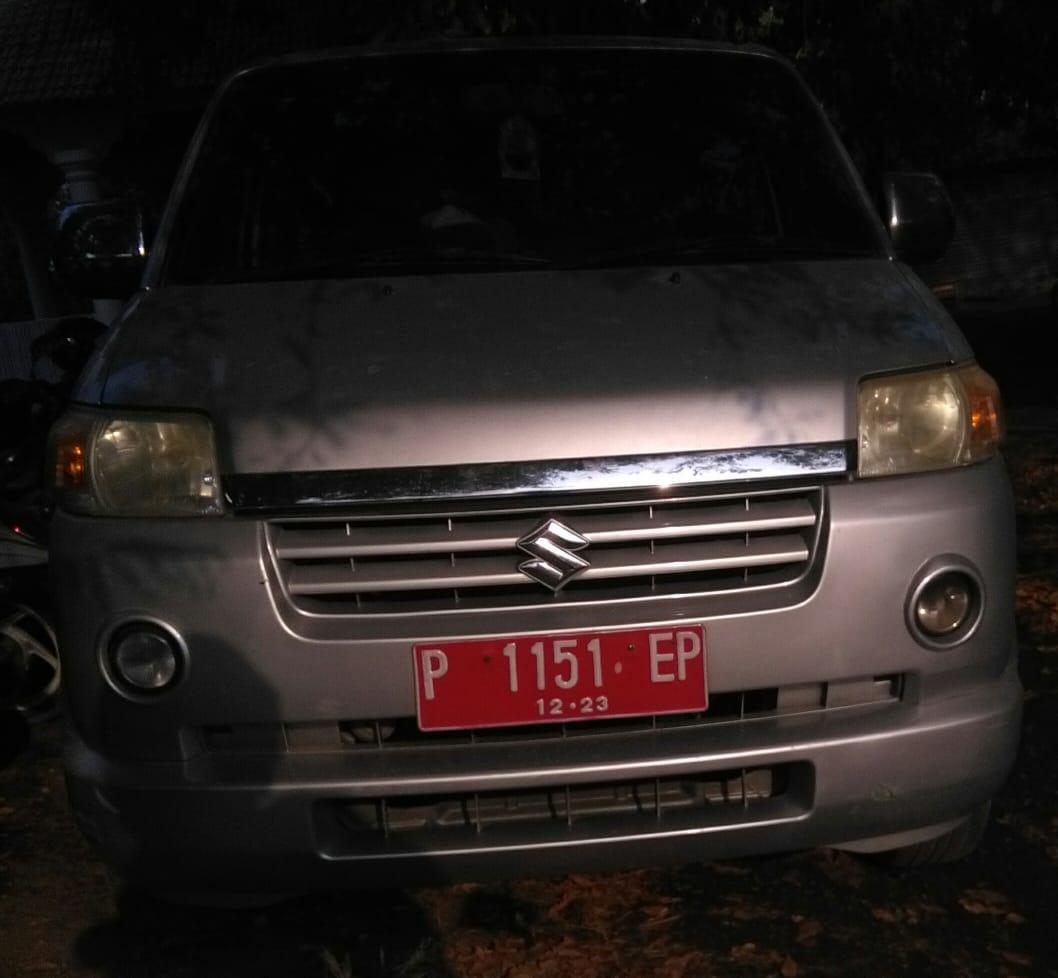plate: (409, 621, 705, 736)
